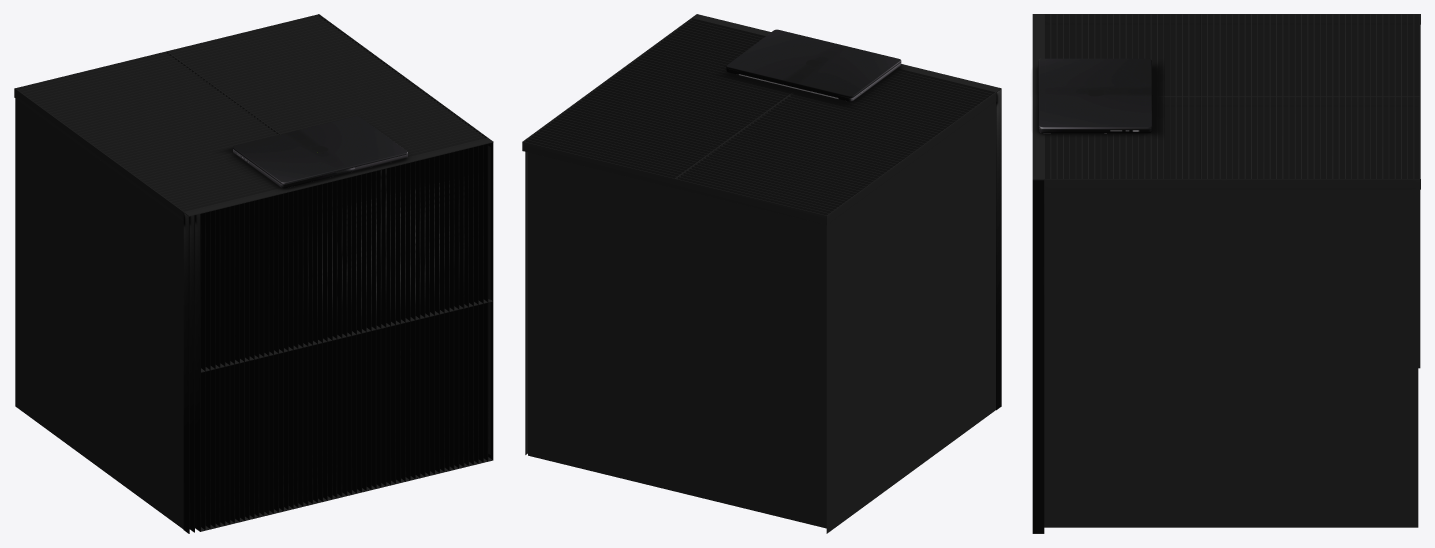
The picture shows the model from 3 angles, left to right: view 1: azimuth 30°, elevation 25°; view 2: azimuth 150°, elevation 25°; view 3: azimuth 270°, elevation 25°; orthographic projection. The views are drawn at different scales.
Visible parts, largest first — view 1: Plane, Object126, Object124, Object127, Object125, top.001, Shape004, Shape005, Shadow, Plane.002, bottom.001; view 2: Plane.001, Plane, Object127, Object125, top.001, Shape005, Object126, Shadow, Shape004, Plane.002; view 3: Plane.002, Plane, Shape005, Object127, top.001, Object125, Object124, Shadow, Shape004, bottom.001.
Part boxes in pixels (left/top/right/bottom): Plane: left=15, top=98, right=183, bottom=529; Object126: left=183, top=179, right=342, bottom=533; Object124: left=342, top=142, right=493, bottom=495; Object127: left=15, top=14, right=402, bottom=151; Object125: left=103, top=78, right=487, bottom=211; top.001: left=233, top=116, right=407, bottom=184; Shape004: left=184, top=138, right=493, bottom=531; Shape005: left=14, top=14, right=487, bottom=220; Shadow: left=219, top=147, right=410, bottom=190; Plane.002: left=488, top=146, right=490, bottom=454; bottom.001: left=233, top=149, right=407, bottom=188; Plane.001: left=528, top=152, right=826, bottom=528; Plane: left=826, top=102, right=995, bottom=533; Object127: left=523, top=80, right=910, bottom=224; Object125: left=610, top=18, right=994, bottom=153; top.001: left=726, top=29, right=901, bottom=97; Shape005: left=522, top=18, right=996, bottom=225; Object126: left=996, top=89, right=1001, bottom=410; Shadow: left=716, top=65, right=904, bottom=109; Shape004: left=692, top=14, right=1001, bottom=92; Plane.002: left=525, top=151, right=527, bottom=454; Plane.002: left=1044, top=189, right=1418, bottom=527; Plane: left=1045, top=24, right=1420, bottom=368; Shape005: left=1044, top=14, right=1420, bottom=189; Object127: left=1232, top=14, right=1420, bottom=178; top.001: left=1038, top=58, right=1152, bottom=128; Object125: left=1044, top=14, right=1226, bottom=178; Object124: left=1032, top=180, right=1044, bottom=532; Shadow: left=1034, top=62, right=1164, bottom=137; Shape004: left=1032, top=14, right=1044, bottom=533; bottom.001: left=1039, top=128, right=1152, bottom=133.
Bounding box in the file's own units: 0.8554 × 0.8747 × 0.8546.
18 materials, 10 textured.
